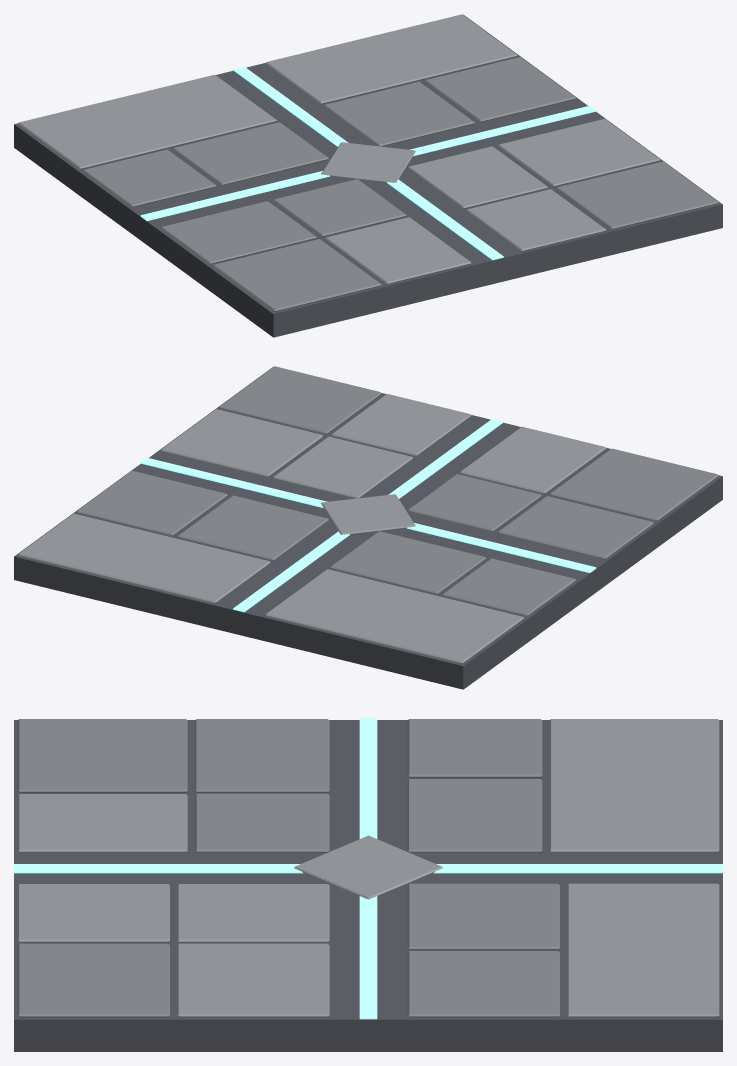
The model's file is floor_glow.glb.
The picture shows the model from 3 angles, top to bottom: view 1: azimuth 30°, elevation 25°; view 2: azimuth 150°, elevation 25°; view 3: azimuth 270°, elevation 25°; orthographic projection. The views are drawn at different scales.
Parts seen in each view (by area): view 1: floor_glow; view 2: floor_glow; view 3: floor_glow.
Part boxes in pixels (x1,y1,x2,y2): floor_glow: (14,14,722,337); floor_glow: (14,366,722,689); floor_glow: (14,718,722,1051).
Size of the model in its own units: 4 by 0.222 by 4.
